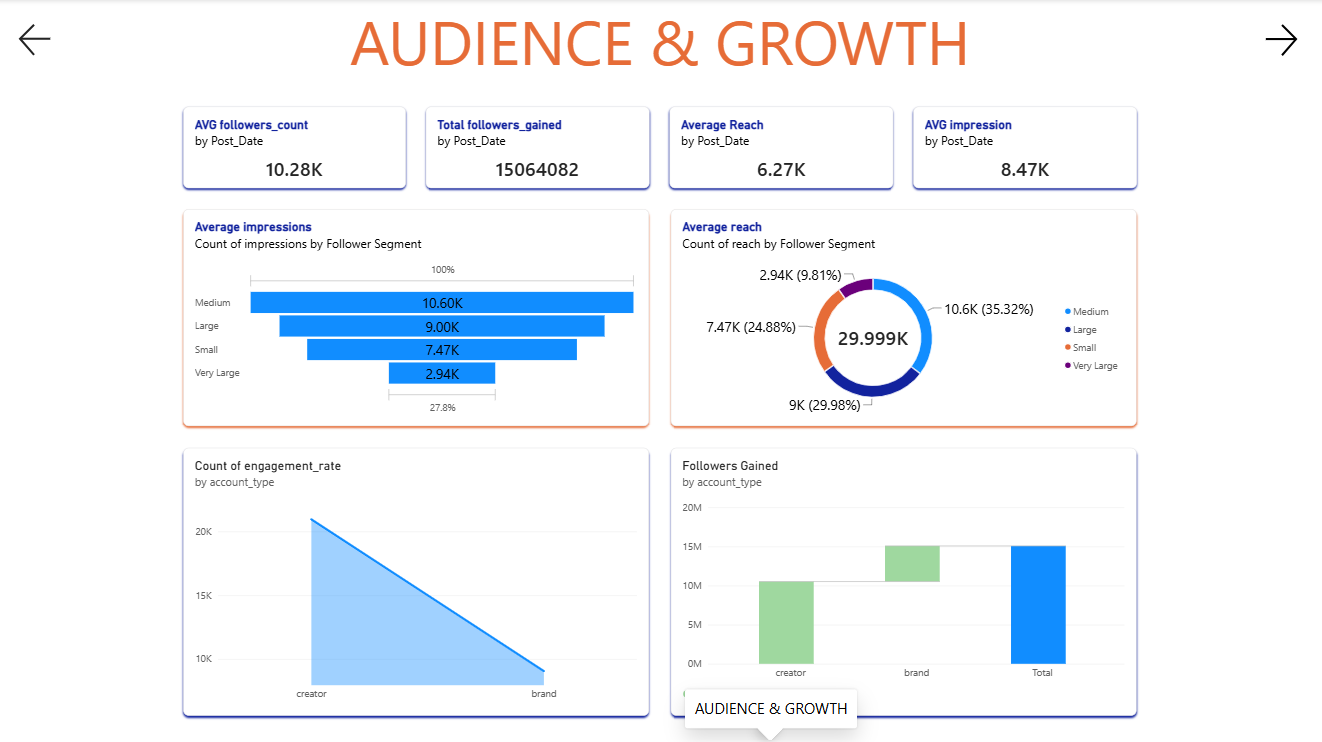

What the dashboard file says about the page in this screenshot:
{"tool":"powerbi","page":{"name":"AUDIENCE & GROWTH","canvas":[1920,1080],"ordinal":3},"visuals":[{"type":"textbox","box":[400,0,1120,120],"z":0},{"type":"kpi","fields":{"Indicator":["Instagram_Analytics.AVG followers_count"],"TrendLine":["Calendar.Post_Date"]},"box":[270,156,322,118],"z":1000},{"type":"kpi","fields":{"Indicator":["Instagram_Analytics.Total followers_gained"],"TrendLine":["Calendar.Post_Date"]},"box":[620,156,324,118],"z":2000},{"type":"kpi","fields":{"Indicator":["Instagram_Analytics.Average Reach"],"TrendLine":["Calendar.Post_Date"]},"box":[974,156,324,118],"z":3000},{"type":"kpi","fields":{"Indicator":["Instagram_Analytics.AVG impression"],"TrendLine":["Calendar.Post_Date"]},"box":[1326,156,324,118],"z":4000},{"type":"funnel","title":"Average impressions","fields":{"Category":["Instagram_Analytics.Follower Segment"],"Y":["CountNonNull(Instagram_Analytics.impressions)"]},"box":[270,304,674,314],"z":5000},{"type":"donutChart","title":"Average reach","fields":{"Category":["Instagram_Analytics.Follower Segment"],"Y":["CountNonNull(Instagram_Analytics.reach)"]},"box":[976,304,674,314],"z":6000},{"type":"stackedAreaChart","fields":{"Category":["Instagram_Analytics.account_type"],"Y":["CountNonNull(Instagram_Analytics.engagement_rate)"]},"box":[270,650,674,388],"z":7000},{"type":"waterfallChart","fields":{"Category":["Instagram_Analytics.account_type"],"Y":["Instagram_Analytics.Followers Gained"]},"box":[976,650,674,388],"z":8000},{"type":"actionButton","box":[6,18,100,82],"z":9000},{"type":"actionButton","box":[1796.9,29.2,123.1,60.5],"z":10000}]}

Visuals, with their boxes in screenshot pixels (x1, y1, x2, y2), scaled from the page's 1920x1080 canvas onto the 1322x742 screenshot:
textbox: [x1=275, y1=0, x2=1047, y2=82]
kpi - Instagram_Analytics.AVG followers_count x Calendar.Post_Date: [x1=186, y1=107, x2=408, y2=188]
kpi - Instagram_Analytics.Total followers_gained x Calendar.Post_Date: [x1=427, y1=107, x2=650, y2=188]
kpi - Instagram_Analytics.Average Reach x Calendar.Post_Date: [x1=671, y1=107, x2=894, y2=188]
kpi - Instagram_Analytics.AVG impression x Calendar.Post_Date: [x1=913, y1=107, x2=1136, y2=188]
"Average impressions" funnel: [x1=186, y1=209, x2=650, y2=425]
"Average reach" donutChart: [x1=672, y1=209, x2=1136, y2=425]
stackedAreaChart - Instagram_Analytics.account_type x CountNonNull(Instagram_Analytics.engagement_rate): [x1=186, y1=447, x2=650, y2=713]
waterfallChart - Instagram_Analytics.account_type x Instagram_Analytics.Followers Gained: [x1=672, y1=447, x2=1136, y2=713]
actionButton: [x1=4, y1=12, x2=73, y2=69]
actionButton: [x1=1237, y1=20, x2=1321, y2=62]
